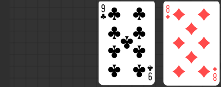9C: (147, 64, 154, 82)
